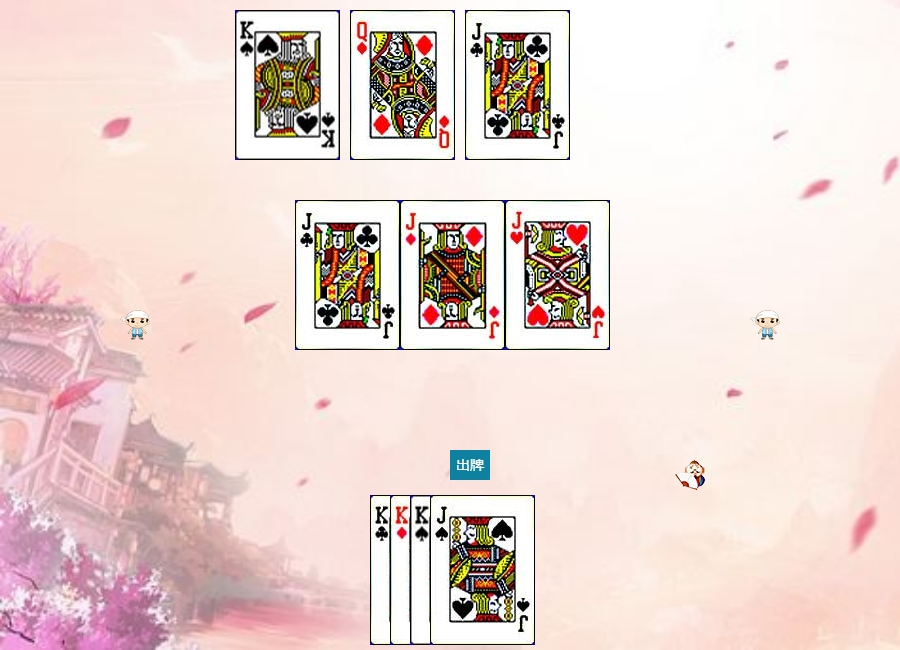11~1: (400, 200, 505, 350)
11~2: (465, 10, 570, 160), (295, 200, 400, 350)
11~3: (505, 200, 610, 350)
11~4: (430, 495, 535, 645)
12~1: (350, 10, 455, 160)
13~1: (390, 495, 495, 645)
13~2: (370, 495, 475, 645)
13~4: (235, 10, 340, 160), (410, 495, 515, 645)
